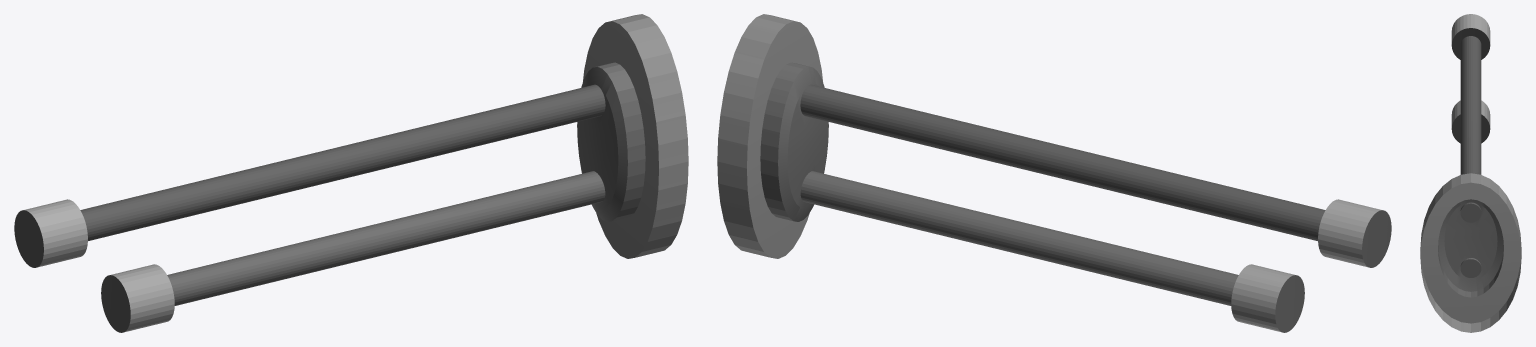
Rendered from TowelHolderModel.fbx.
The picture shows the model from 3 angles, left to right: view 1: azimuth 30°, elevation 25°; view 2: azimuth 150°, elevation 25°; view 3: azimuth 270°, elevation 25°; orthographic projection. The views are drawn at different scales.
Visible parts, largest first — view 1: TowelHolderModel; view 2: TowelHolderModel; view 3: TowelHolderModel.
Part boxes in pixels (box(x1,y1,x2,y2)): TowelHolderModel: box(14, 14, 688, 332); TowelHolderModel: box(717, 14, 1391, 332); TowelHolderModel: box(1420, 14, 1521, 332).
Size of the model in its own units: 65.23 by 23.22 by 14.16.
